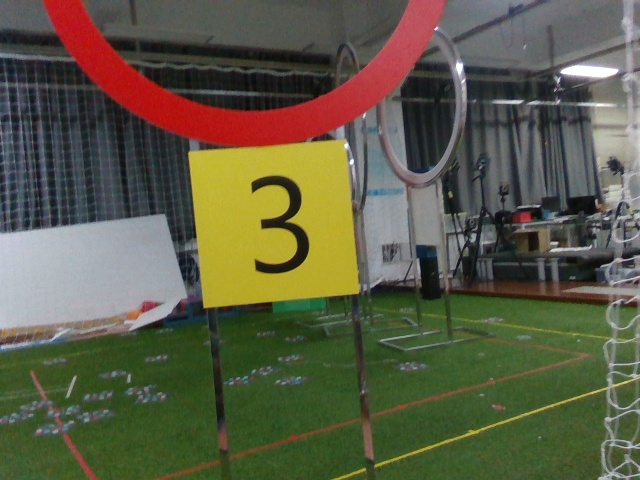target: (195, 150, 349, 291)
